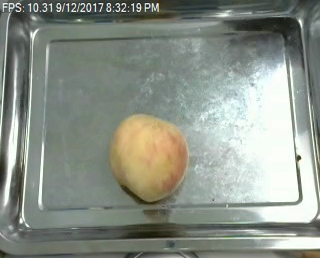Peach: (109, 115, 188, 202)
